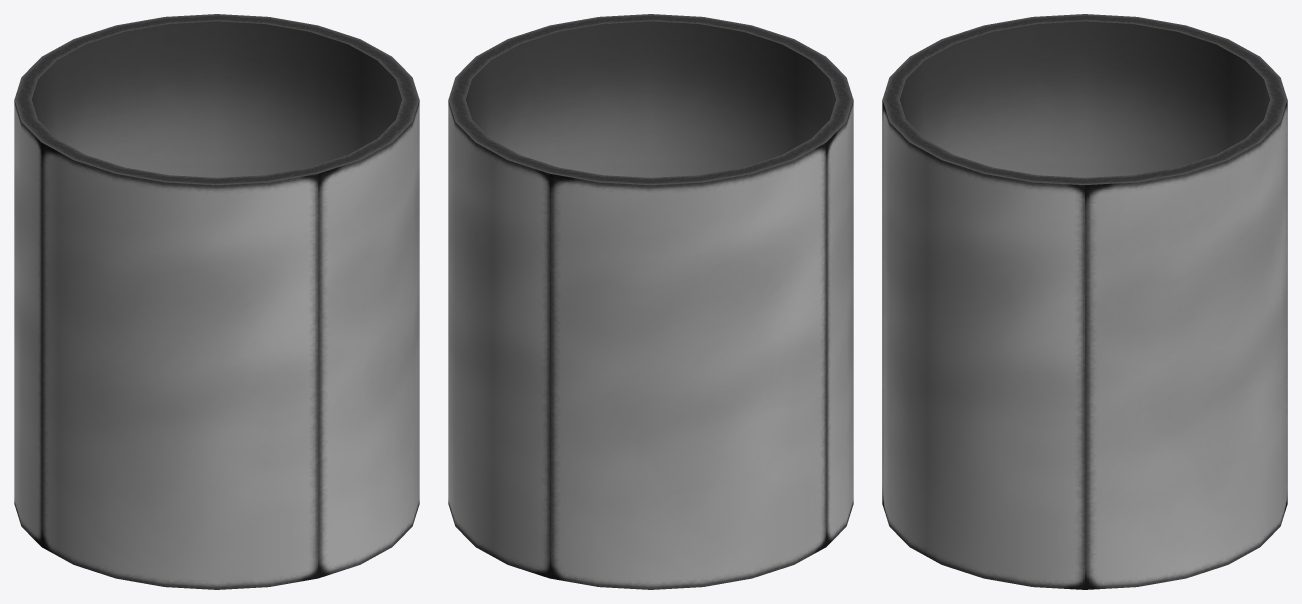
Rendered from atlasEngineFairingBoi.dae.
The picture shows the model from 3 angles, left to right: view 1: azimuth 30°, elevation 25°; view 2: azimuth 150°, elevation 25°; view 3: azimuth 270°, elevation 25°; orthographic projection.
Visible parts, largest first — view 1: AtlasEngineFairing; view 2: AtlasEngineFairing; view 3: AtlasEngineFairing.
Boxes of the visible parts, bbox=[...] form: AtlasEngineFairing: bbox=[14, 14, 419, 589]; AtlasEngineFairing: bbox=[448, 14, 853, 589]; AtlasEngineFairing: bbox=[882, 14, 1287, 589].
Size of the model in its own units: 1.25 by 1.38 by 1.25.
